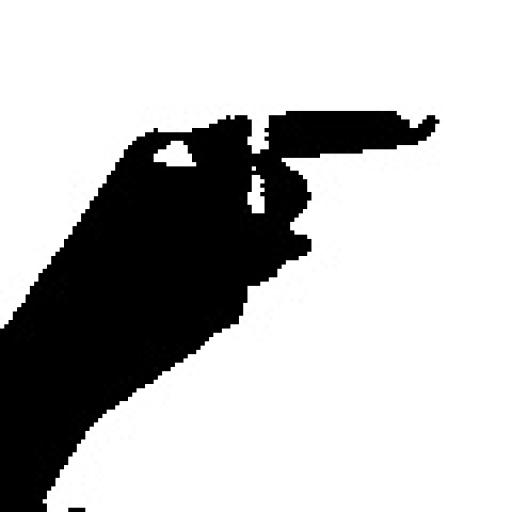index_right: (0, 107, 440, 322)
